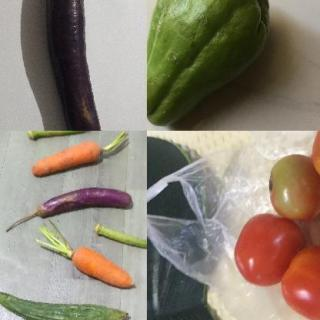Tomat: (217, 130, 320, 320)
